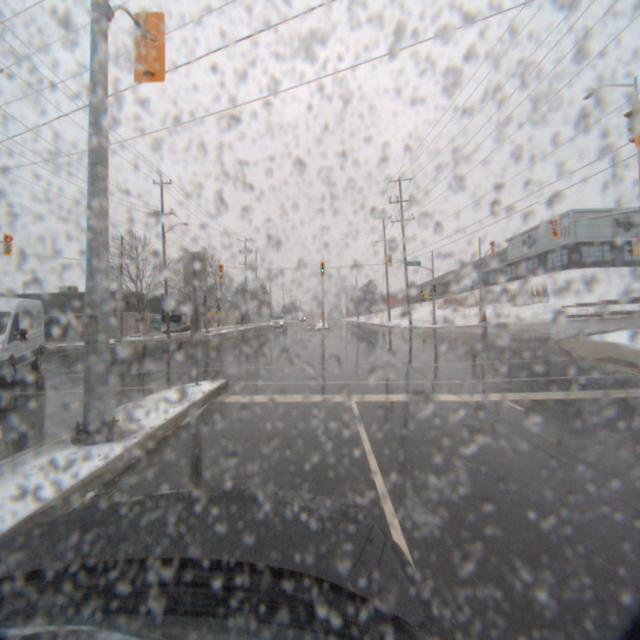Car: (264, 314, 286, 330)
